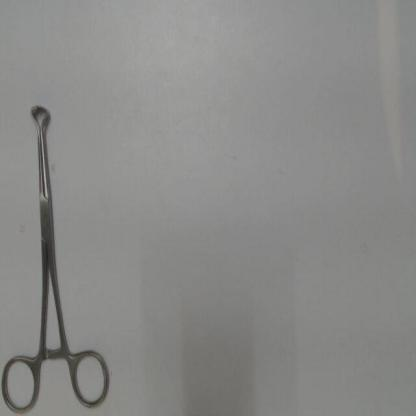Babcock Tissue Forceps: (1, 99, 114, 415)
